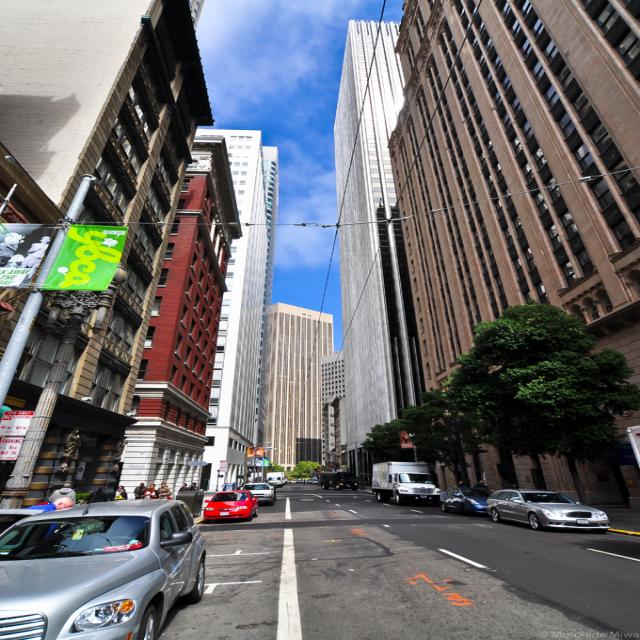car: (487, 486, 608, 531), (199, 488, 259, 522)
